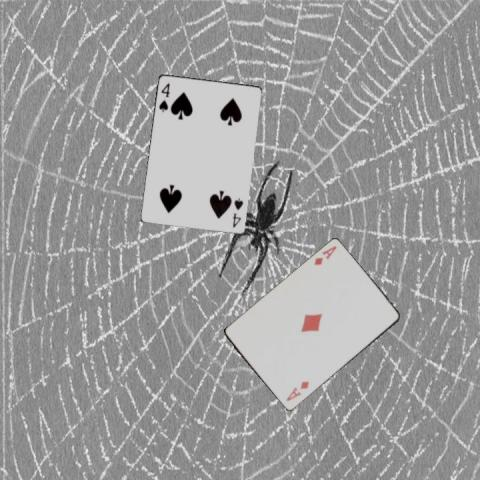4s: (156, 80, 171, 114), (229, 194, 244, 228)
Ad: (283, 378, 311, 403), (311, 243, 338, 267)
